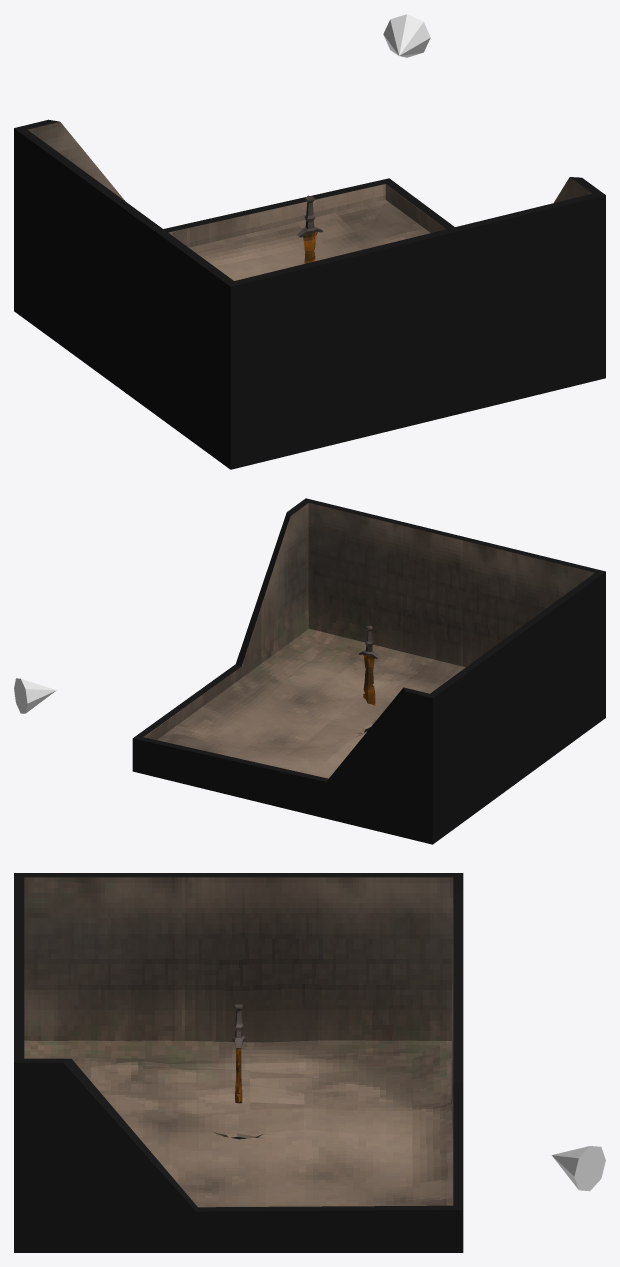
File: demo-camera.glb
3 views of the same model, one above another, from view 1: azimuth 30°, elevation 25°; view 2: azimuth 150°, elevation 25°; view 3: azimuth 270°, elevation 25° (orthographic). The views are drawn at different scales.
Parts seen in each view (by area): view 1: Plane, Cone, SM_Wep_BrokenSword_01; view 2: Plane, Cone, SM_Wep_BrokenSword_01; view 3: Plane, Cone, SM_Wep_BrokenSword_01.
Boxes of the visible parts, x1,y1,x2,y2 form: Plane: (14, 119, 605, 469); Cone: (383, 14, 430, 57); SM_Wep_BrokenSword_01: (297, 195, 322, 263); Plane: (132, 498, 605, 844); Cone: (14, 678, 56, 713); SM_Wep_BrokenSword_01: (358, 625, 379, 705); Plane: (14, 873, 463, 1252); Cone: (551, 1146, 605, 1191); SM_Wep_BrokenSword_01: (232, 1004, 245, 1103).
Size of the model in its own units: 8.29 by 3.08 by 8.72.
5 materials, 4 textured.
